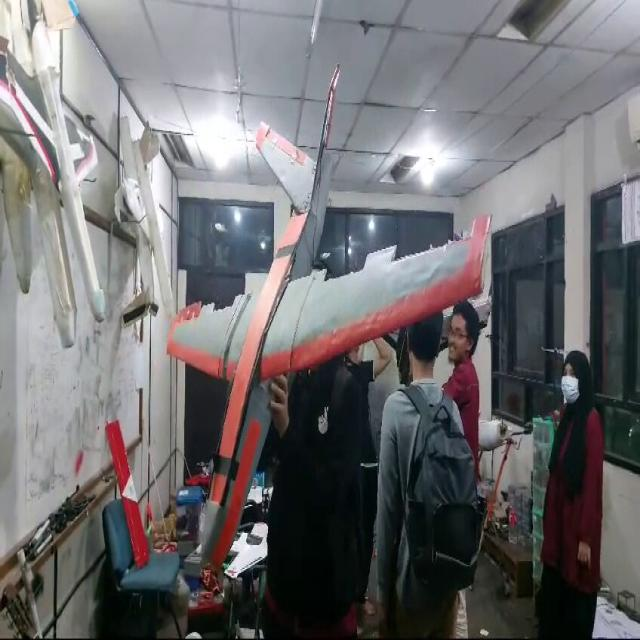plane: (164, 62, 493, 581)
